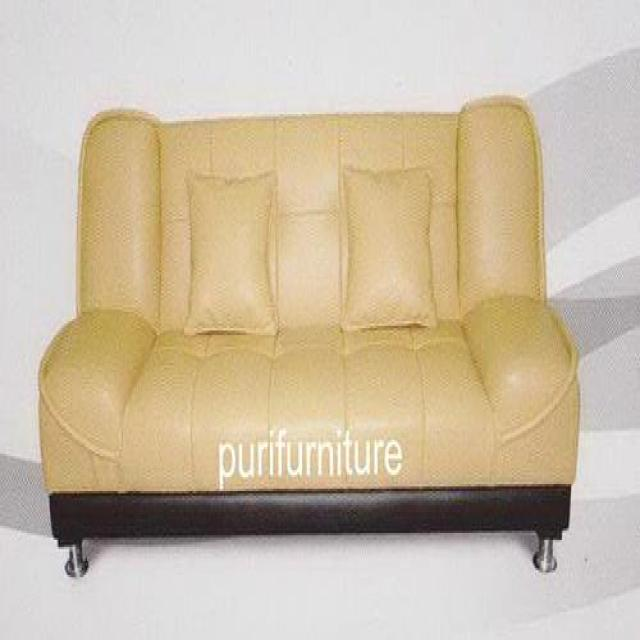sofa: (36, 108, 582, 577)
